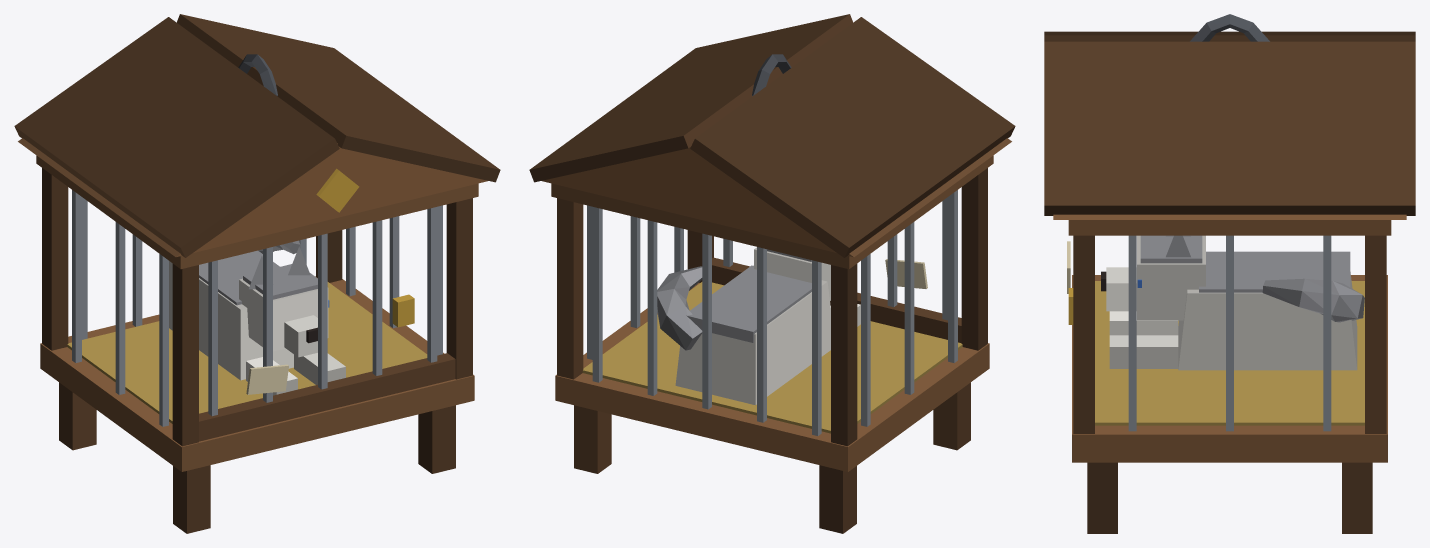
The model's file is cage_husky.glb.
The picture shows the model from 3 angles, left to right: view 1: azimuth 30°, elevation 25°; view 2: azimuth 150°, elevation 25°; view 3: azimuth 270°, elevation 25°; orthographic projection. The views are drawn at different scales.
Visible parts, largest first — view 1: cage_husky; view 2: cage_husky; view 3: cage_husky.
Part boxes in pixels (left/top/right/bottom): cage_husky: left=14, top=14, right=500, bottom=533; cage_husky: left=529, top=14, right=1015, bottom=533; cage_husky: left=1044, top=14, right=1415, bottom=533.
Bounding box in the file's own units: 1.35 × 1.61 × 1.21.
